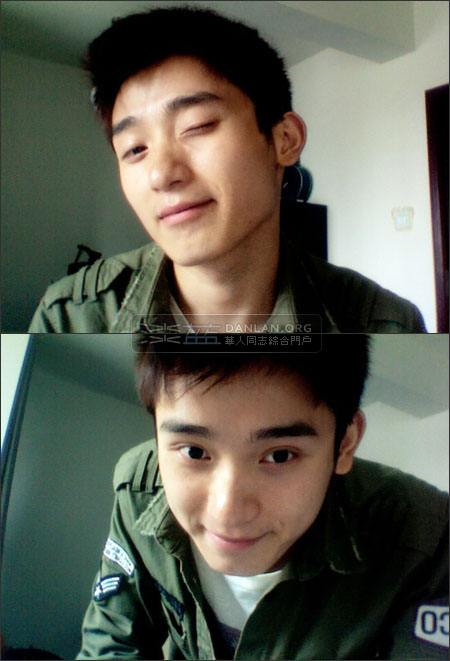person: (77, 40, 385, 303), (105, 348, 360, 626)
